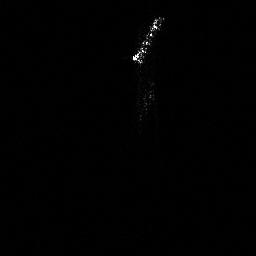ship: (130, 13, 167, 66)
